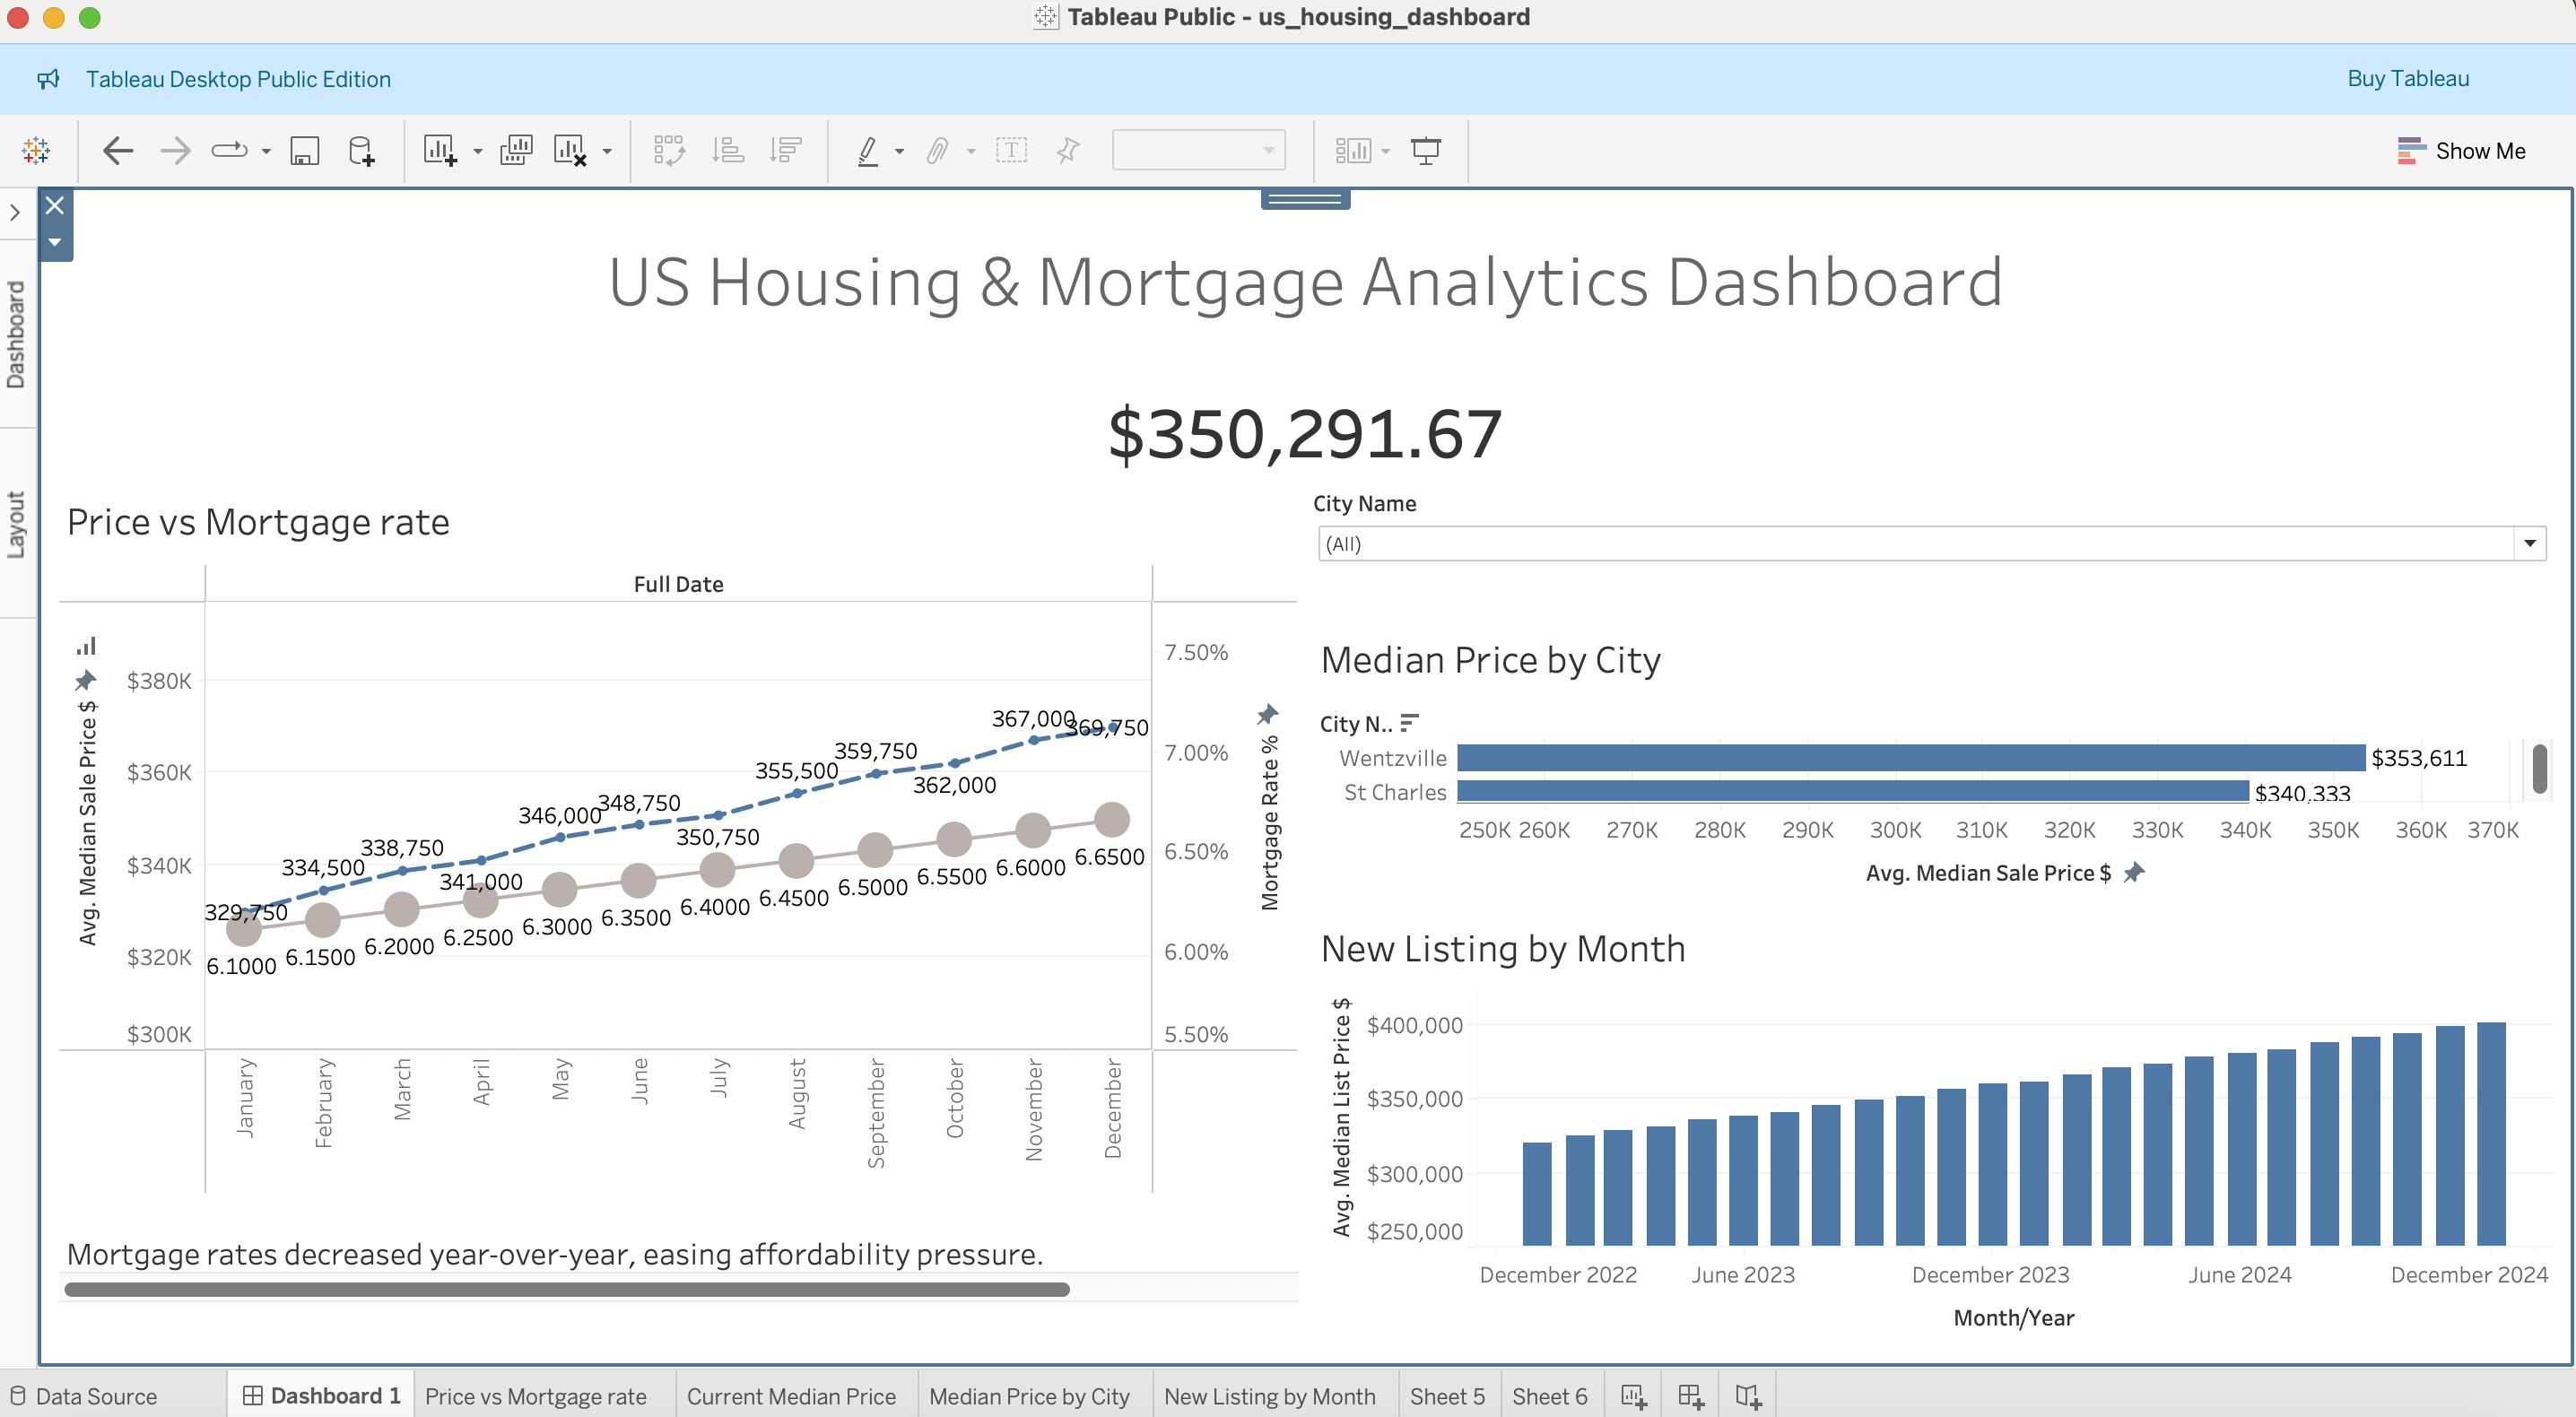

What the dashboard file says about the page in this screenshot:
{"tool":"tableau","page":{"name":"Dashboard 1","canvas":[1000,1000],"units":"permille","ordinal":0},"visuals":[{"type":"text","box":[6.5,12.2,987,132.2]},{"type":"worksheet","title":"Current Median Price","mark":"Automatic","box":[6.5,144.4,987,104.9]},{"type":"worksheet","title":"Price vs Mortgage rate ","mark":"Automatic","rows":["MedianSalePrice","MortgageRate30Y"],"cols":["FullDate"],"box":[6.5,249.2,493.5,610.9]},{"type":"filter","title":"Median Price by City","param":"[federated.1lb9e9906hrq9d12zlccs0rkvcls].[none:CityName:nk]","box":[500,249.2,493.5,117]},{"type":"worksheet","title":"Median Price by City","mark":"Automatic","rows":["CityName"],"cols":["MedianSalePrice"],"box":[500,366.3,493.5,244.7]},{"type":"worksheet","title":"New Listing by Month","mark":"Bar","rows":["MedianListPrice"],"cols":["FullDate"],"box":[500,610.9,493.5,376.9]},{"type":"worksheet","title":"Sheet 5","mark":"Text","box":[6.5,860.2,493.5,127.7]}]}

Visuals, with their boxes on the dashboard's canvas, which has no fixed pixel size, in thousandths of its width and height (x1, y1, x2, y2). These are canvas units, not pixel positions in the 2576x1417 screenshot, which may show the page scaled, cropped or inside an application window:
text: crop(6, 12, 994, 144)
"Current Median Price" worksheet: crop(6, 144, 994, 249)
"Price vs Mortgage rate " worksheet: crop(6, 249, 500, 860)
"Median Price by City" filter: crop(500, 249, 994, 366)
"Median Price by City" worksheet: crop(500, 366, 994, 611)
"New Listing by Month" worksheet (Bar marks): crop(500, 611, 994, 988)
"Sheet 5" worksheet (Text marks): crop(6, 860, 500, 988)
